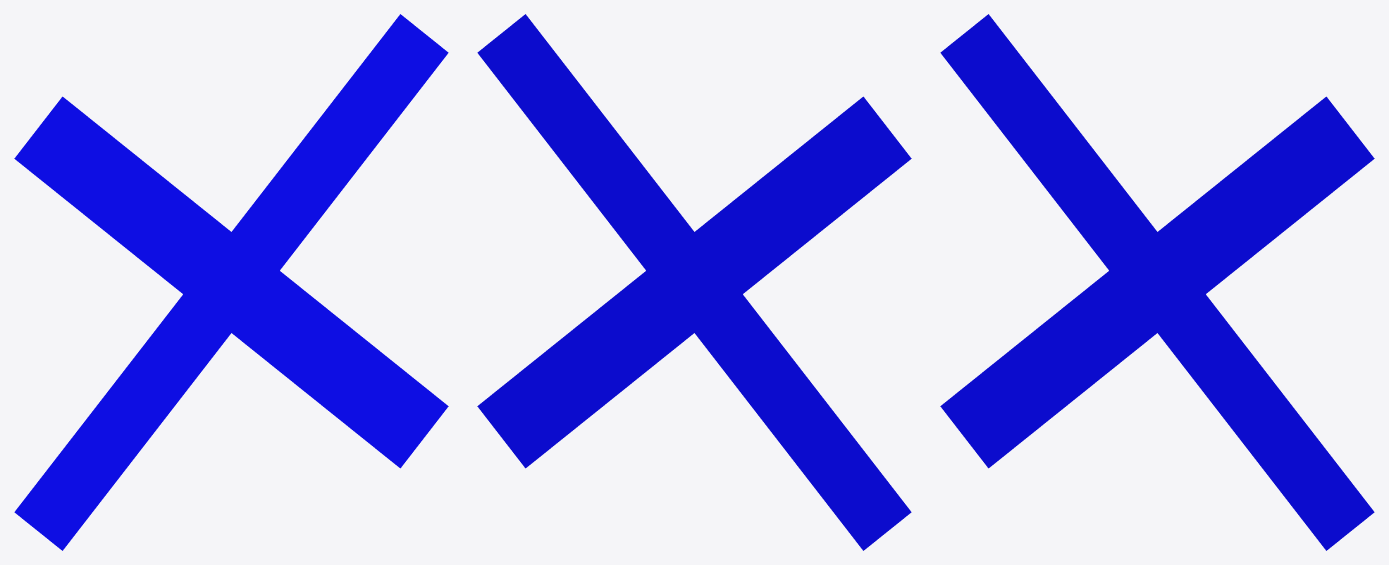
File: gizmo-d-z.glb
3 renders of one model, left to right at view 1: azimuth 30°, elevation 25°; view 2: azimuth 150°, elevation 25°; view 3: azimuth 330°, elevation 25°, orthographic.
Parts seen in each view (by area): view 1: disable z; view 2: disable z; view 3: disable z.
Part boxes in pixels (left/top/right/bottom): disable z: left=14, top=14, right=448, bottom=550; disable z: left=477, top=14, right=911, bottom=550; disable z: left=940, top=14, right=1374, bottom=550.
Bounding box in the file's own units: 0.2128 × 0.2128 × 1.79e-08.
1 material, 1 textured.
